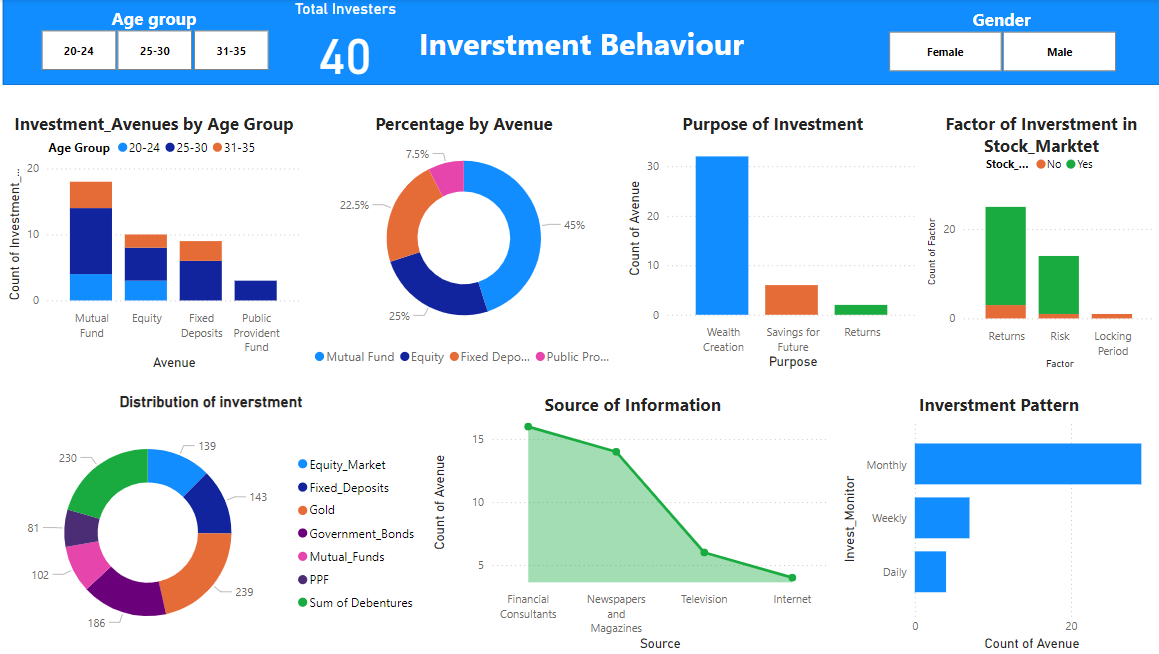

The dashboard page shown, as its layout file describes it:
{"tool":"powerbi","page":{"name":"Page 1","canvas":[1280,720],"ordinal":0},"visuals":[{"type":"shape","box":[9.6,0,1270.7,94.7],"z":0},{"type":"columnChart","title":"Investment_Avenues by Age Group","fields":{"Y":["CountNonNull(dataset_cognifyz.Investment_Avenues)"],"Category":["dataset_cognifyz.Avenue"],"Series":["dataset_cognifyz.Age Group"]},"box":[9.6,123.5,332.1,288.2],"z":2000},{"type":"donutChart","title":"Percentage by Avenue","fields":{"Category":["dataset_cognifyz.Avenue"],"Y":["CountNonNull(dataset_cognifyz.Investment_Avenues)"]},"box":[341.7,123.5,348.5,288.2],"z":3000},{"type":"columnChart","title":"Purpose of Investment","fields":{"Category":["dataset_cognifyz.Purpose"],"Y":["CountNonNull(dataset_cognifyz.Avenue)"]},"box":[690.2,123.5,329.3,288.2],"z":4000},{"type":"donutChart","title":"Distribution of inverstment","fields":{"Y":["Sum(dataset_cognifyz.Equity_Market)","Sum(dataset_cognifyz.Fixed_Deposits)","Sum(dataset_cognifyz.Gold)","Sum(dataset_cognifyz.Government_Bonds)","Sum(dataset_cognifyz.Mutual_Funds)","Sum(dataset_cognifyz.PPF)","Sum(dataset_cognifyz.Debentures)"]},"box":[0,432.2,476.2,288.2],"z":5000},{"type":"areaChart","title":"Source of Information","fields":{"Category":["dataset_cognifyz.Source"],"Y":["CountNonNull(dataset_cognifyz.Avenue)"]},"box":[476.2,432.2,450.1,288.2],"z":6000},{"type":"clusteredBarChart","title":"Inverstment Pattern","fields":{"Category":["dataset_cognifyz.Invest_Monitor"],"Y":["CountNonNull(dataset_cognifyz.Avenue)"]},"box":[926.2,432.2,354,288.2],"z":6001},{"type":"columnChart","title":"Factor of Inverstment in Stock_Marktet","fields":{"Y":["CountNonNull(dataset_cognifyz.Factor)"],"Category":["dataset_cognifyz.Factor"],"Series":["dataset_cognifyz.Stock_Marktet"]},"box":[1019.6,123.5,260.7,288.2],"z":6002},{"type":"slicer","title":"Age group","fields":{"Values":["dataset_cognifyz.Age Group"]},"box":[26.1,8.2,299.1,76.8],"z":6003},{"type":"slicer","title":"Gender","fields":{"Values":["dataset_cognifyz.gender"]},"box":[956.4,9.6,299.1,76.8],"z":6004},{"type":"card","title":"Total Investers","fields":{"Values":["CountNonNull(dataset_cognifyz.Source)"]},"box":[304.6,0,161.9,94.7],"z":6005}]}

Visuals, with their boxes in screenshot pixels (x1, y1, x2, y2), scaled from the page's 1280x720 canvas onto the 1159x654 screenshot:
shape: 9/0/1158/86
"Investment_Avenues by Age Group" columnChart: 9/112/309/374
"Percentage by Avenue" donutChart: 309/112/625/374
"Purpose of Investment" columnChart: 625/112/923/374
"Distribution of inverstment" donutChart: 0/393/431/653
"Source of Information" areaChart: 431/393/839/653
"Inverstment Pattern" clusteredBarChart: 839/393/1158/653
"Factor of Inverstment in Stock_Marktet" columnChart: 923/112/1158/374
"Age group" slicer: 24/7/294/77
"Gender" slicer: 866/9/1137/78
"Total Investers" card: 276/0/422/86
